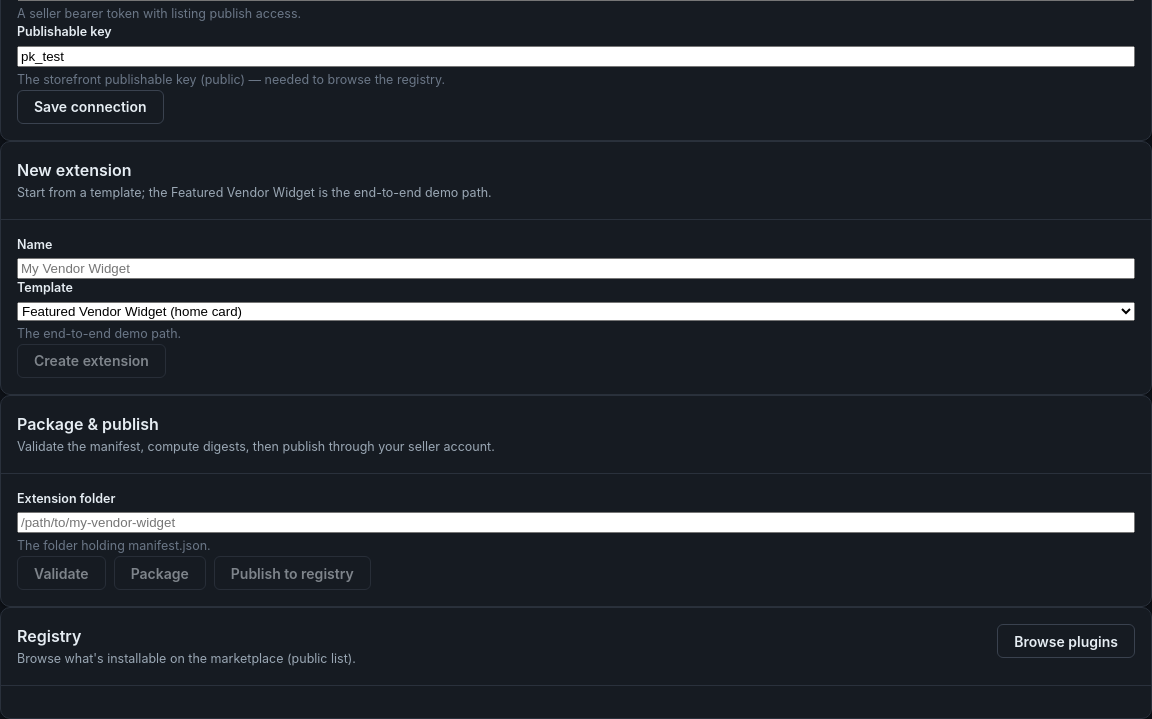
it: ExtensionsView › asks for the bundle address after packaging an asset-carrying kind
(page scrolled)
Type "/tmp/night-theme" into the field with placeholder "/path/to/my-vendor-widget".
click(576, 523); type("/tmp/night-theme")  # box [17,512,1135,533]
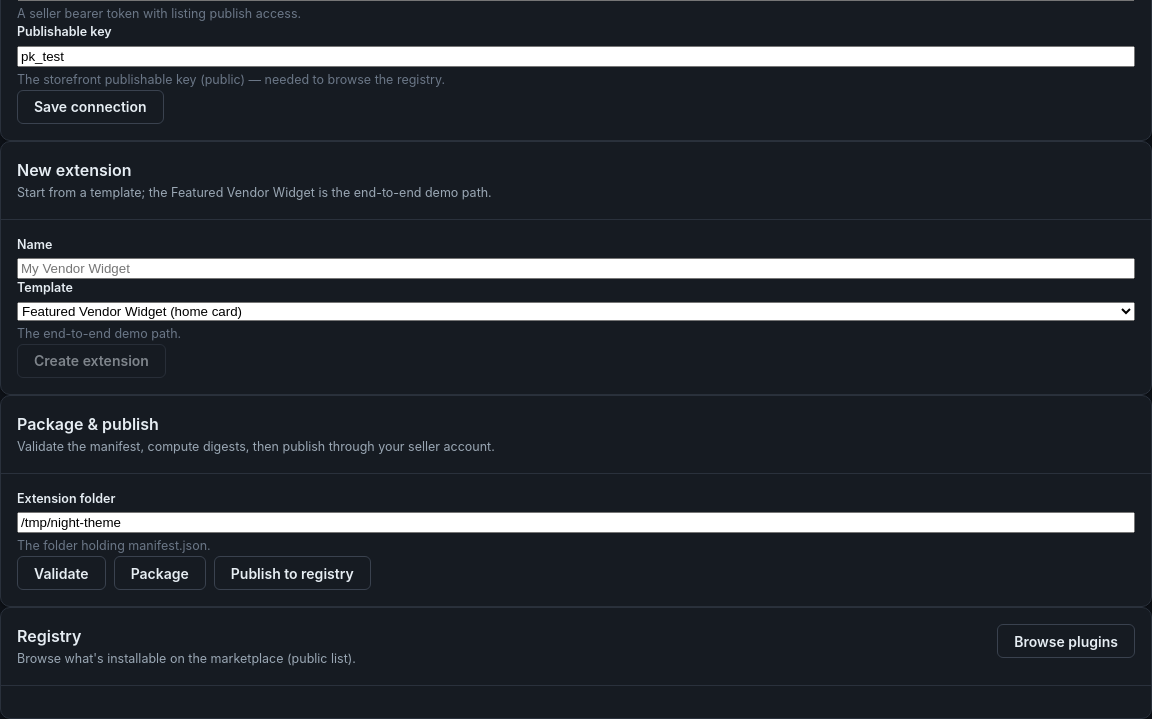
Click the button "Package".
click(160, 573)  # box [114,556,206,590]
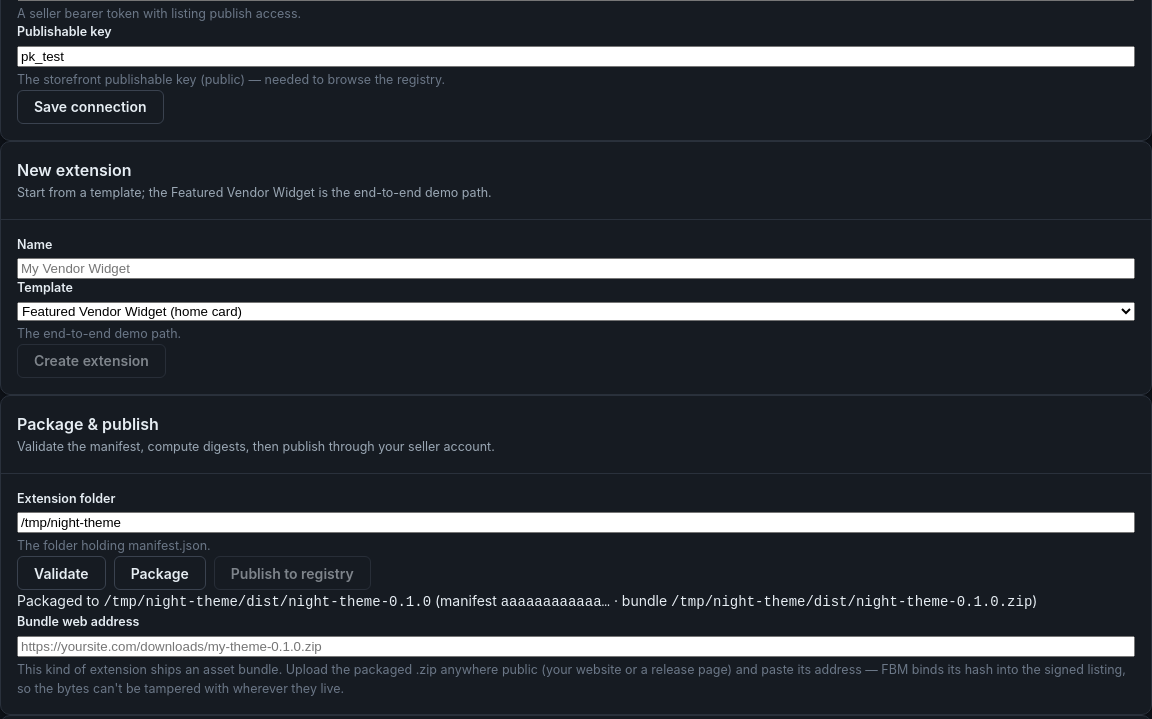
Check: the button "Publish to registry" is disabled, box [214,556,371,590]
Type "https://example.com/night-theme.zip" into the field with placeholder "https://yoursite.com/downloads/my-theme-0.1.0.zip".
click(576, 646); type("https://example.com/night-theme.zip")  # box [17,636,1135,657]
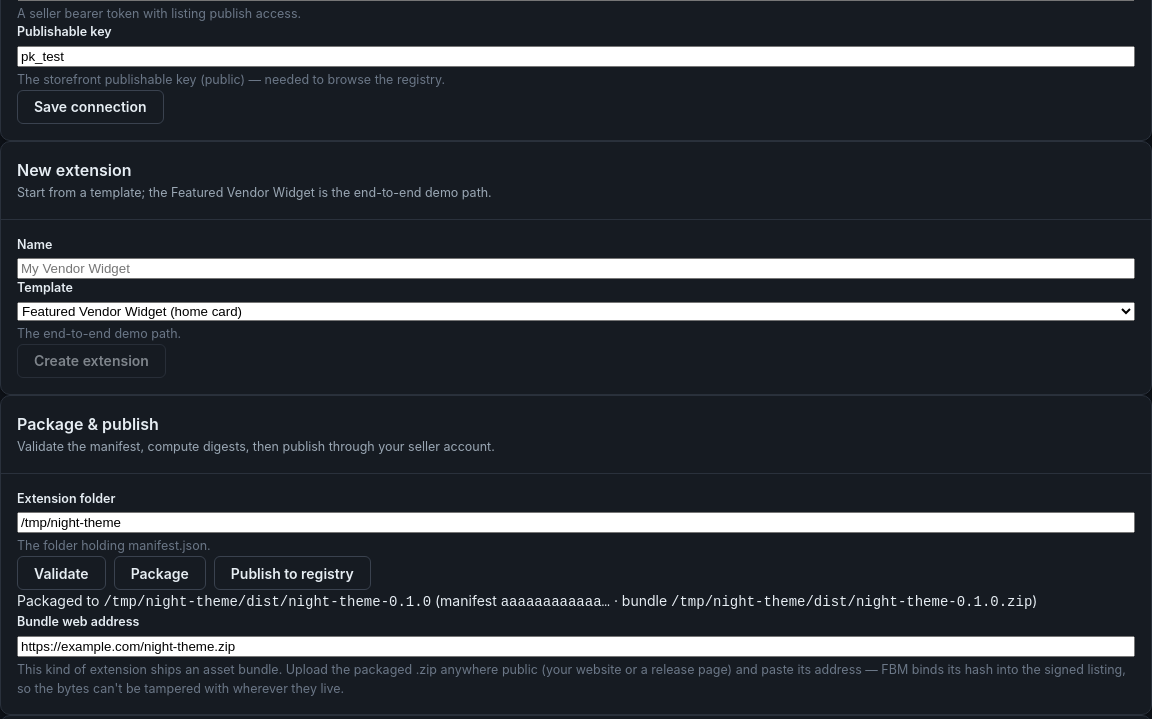
Check: the button "Publish to registry" is enabled, box [214,556,371,590]
